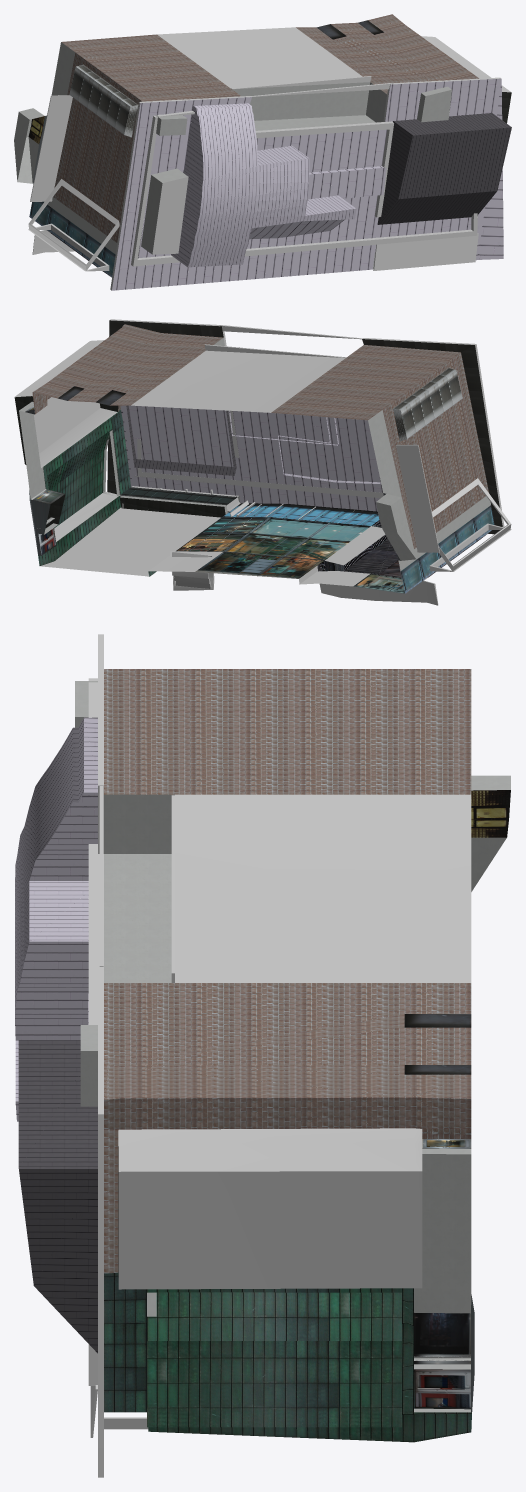
File: Viru15_02-origo.obj
3 renders of one model, top to bottom at view 1: azimuth 30°, elevation 25°; view 2: azimuth 150°, elevation 25°; view 3: azimuth 270°, elevation 25°, orthographic. The views are drawn at different scales.
Visible parts, largest first — view 1: Plane01; view 2: Plane01; view 3: Plane01.
Boxes of the visible parts, x1,y1,x2,y2 form: Plane01: [14, 14, 511, 290]; Plane01: [14, 319, 511, 605]; Plane01: [15, 634, 510, 1477].
Size of the model in its own units: 41.5 by 23 by 21.14.
